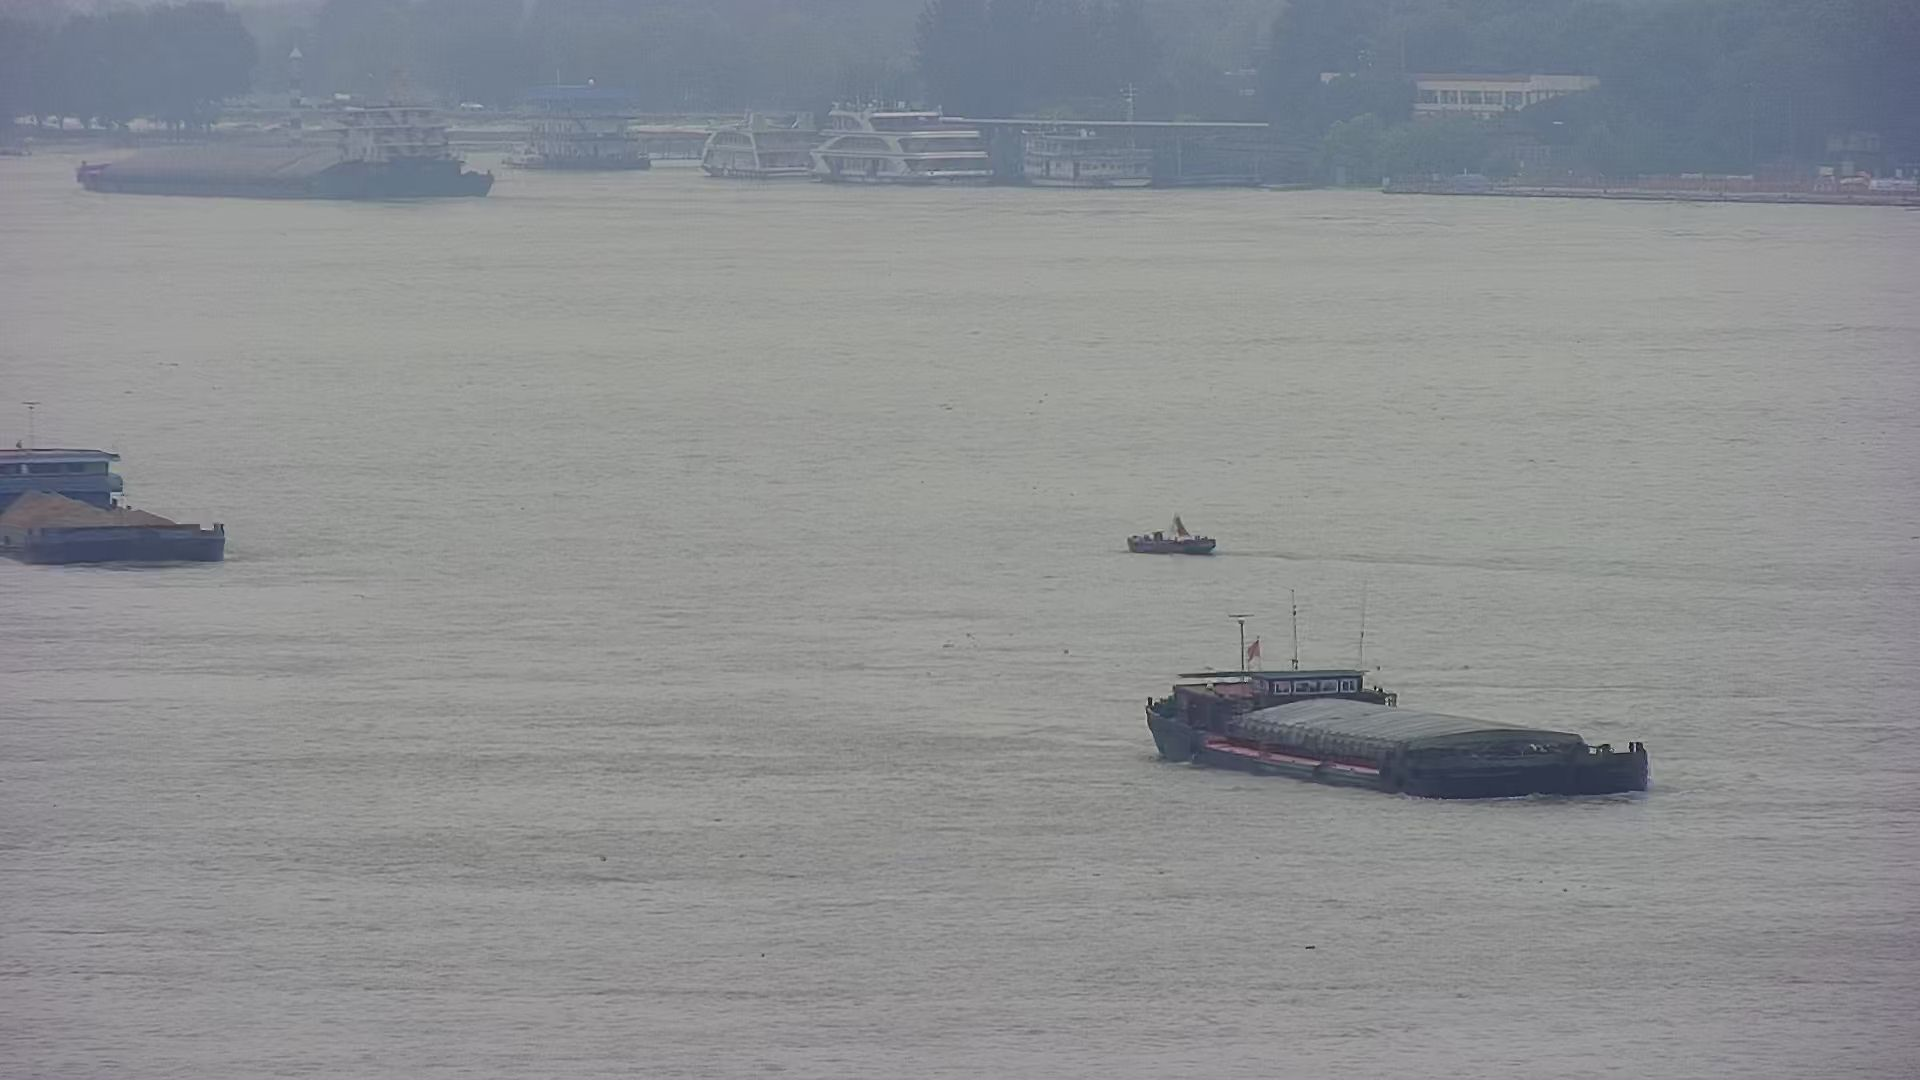boat: (1120, 505, 1222, 564)
ship: (1120, 584, 1669, 812), (61, 63, 509, 214), (1, 394, 258, 578), (800, 76, 1006, 196), (498, 69, 671, 179), (1009, 98, 1168, 198), (691, 94, 818, 186)
